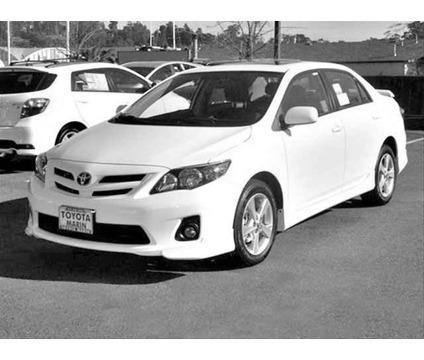car: (28, 61, 409, 266)
